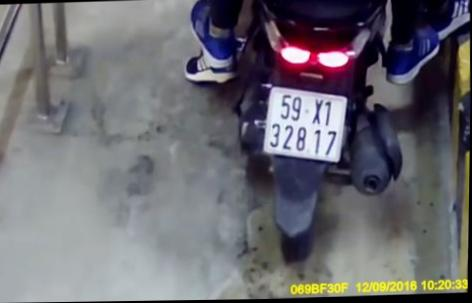LP: (261, 85, 349, 168)
